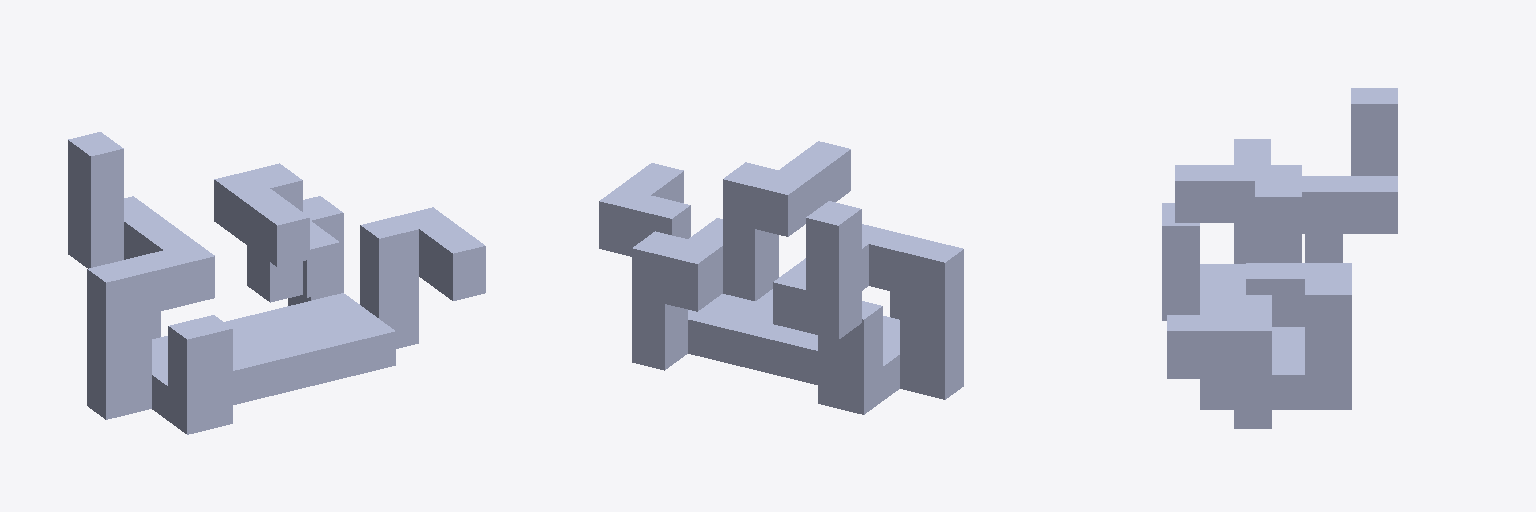
Rendered from Distractor_13.obj.
3 views of the same model, side by side, from view 1: azimuth 30°, elevation 25°; view 2: azimuth 150°, elevation 25°; view 3: azimuth 270°, elevation 25° (orthographic).
Parts seen in each view (by area): view 1: mesh_1_Long-7.001; view 2: mesh_1_Long-7.001; view 3: mesh_1_Long-7.001.
Boxes of the visible parts, <box> form: mesh_1_Long-7.001: <box>68,132,485,434</box>; mesh_1_Long-7.001: <box>599,141,963,414</box>; mesh_1_Long-7.001: <box>1162,88,1397,428</box>.
Bounding box in the file's own units: 0.19 × 0.11 × 0.1119.